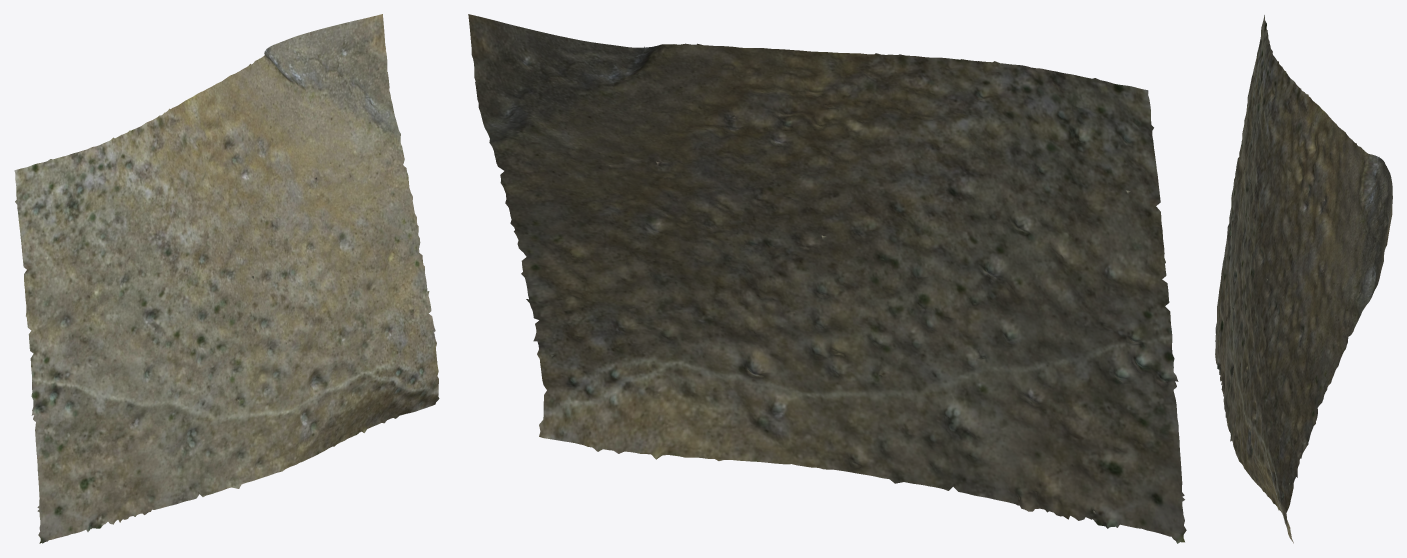
The model's file is tile_17.obj.
3 renders of one model, left to right at view 1: azimuth 30°, elevation 25°; view 2: azimuth 150°, elevation 25°; view 3: azimuth 270°, elevation 25°, orthographic. The views are drawn at different scales.
Size of the model in its own units: 2.07 by 1.6 by 0.7696.
Materials: 1 (1 with a texture image).
